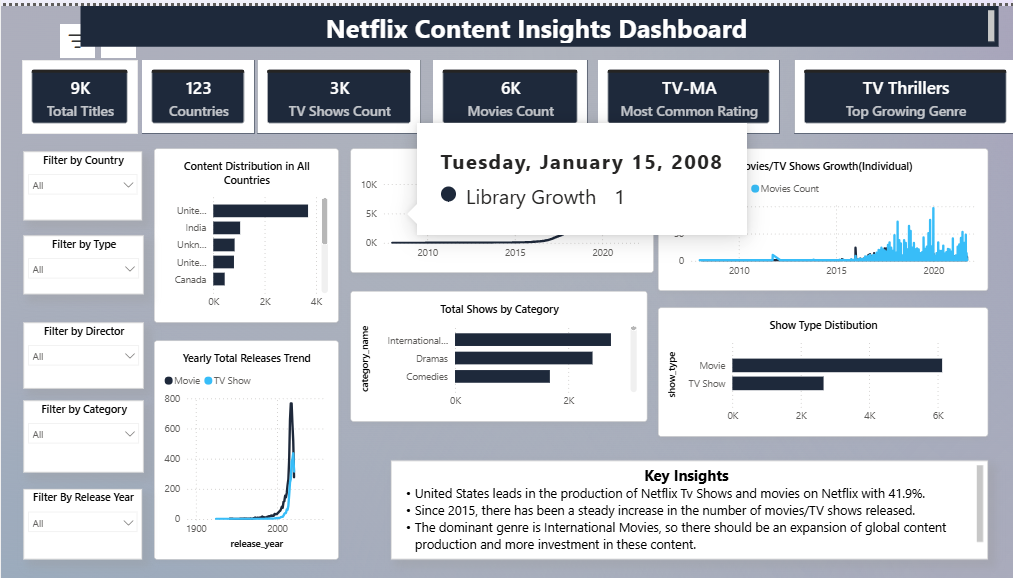

The dashboard page shown, as its layout file describes it:
{"tool":"powerbi","page":{"name":"Index Page","canvas":[1280,720],"ordinal":0},"visuals":[{"type":"cardVisual","fields":{"Data":["netflix_title movie_show_casts.Total Titles"]},"box":[26.5,68,145.5,92.6],"z":0},{"type":"cardVisual","fields":{"Data":["netflix_title movie_show_casts.Countries"]},"box":[177.6,68,141.7,92.6],"z":1000},{"type":"cardVisual","fields":{"Data":["netflix_title movie_show_casts.TV Shows Total"]},"box":[323.2,68,168.2,92.6],"z":2000},{"type":"cardVisual","fields":{"Data":["netflix_title movie_show_casts.Movies Count"]},"box":[504.6,68,194.6,92.6],"z":3000},{"type":"cardVisual","fields":{"Data":["netflix_title movie_show_casts.Average Movie Duration"]},"box":[956.2,68,323.2,92.6],"z":4000},{"type":"cardVisual","fields":{"Data":["netflix_title movie_show_casts.Most Common Ratingg"]},"box":[712.4,68,228.7,92.6],"z":5000},{"type":"barChart","title":"Top 10 Countries Producing Shows","fields":{"Y":["CountNonNull(netflix_title movie_show_countries.show_id)"],"Category":["netflix_title movie_show_countries.country_name"]},"box":[192.8,179.5,232.4,219.2],"z":6000},{"type":"clusteredBarChart","title":"Total Shows by Category","fields":{"Category":["netflix_title movie_show_categories.category_name"],"Y":["CountNonNull(netflix_title movie_show_categories.show_id)"]},"box":[440.3,359.1,374.2,164.4],"z":7000},{"type":"lineChart","title":"Yearly Movies/TV Shows Growth ","fields":{"Y":["netflix_title movie_show_casts.Library Growth"],"Category":["Date Table.Date"]},"box":[440.3,179.5,381.7,156.9],"z":8000},{"type":"lineChart","title":"Movies/TV Shows Growth(Individual)","fields":{"Y":["netflix_title movie_show_casts.TV Shows Count","netflix_title movie_show_casts.Movies Count"],"Category":["Date Table.Date"]},"box":[827.7,179.5,415.8,179.5],"z":9000},{"type":"slicer","title":"Filter by Country","fields":{"Values":["netflix_title movie_show_countries.country_name"]},"box":[26.5,178.9,149.1,87.8],"z":10000},{"type":"slicer","title":"Filter by Type","fields":{"Values":["netflix_title netflix_titles_staging.show_type"]},"box":[26.5,284.9,150.7,74.5],"z":11000},{"type":"slicer","title":"Filter by Director","fields":{"Values":["netflix_title movie_show_directors.director_name"]},"box":[26.5,379.3,150.7,82.8],"z":12000},{"type":"slicer","title":"Filter by Category","fields":{"Values":["netflix_title movie_show_categories.category_name"]},"box":[26.5,495.3,150.7,91.1],"z":13000},{"type":"lineChart","title":"Yearly Total Releases Trend","fields":{"Y":["netflix_title movie_show_casts.Total Titles"],"Category":["netflix_title netflix_titles_staging.release_year"],"Series":["netflix_title netflix_titles_staging.show_type"]},"box":[192.8,421.4,232.4,275.9],"z":14000},{"type":"barChart","title":"Show Type Distribution by country_","fields":{"Category":["netflix_title movie_show_countries.country_name"],"Series":["netflix_title netflix_titles_staging.show_type"],"Y":["CountNonNull(netflix_title movie_show_countries.country_name)"]},"box":[827.7,379.8,415.8,162.5],"z":15000},{"type":"textbox","box":[491.3,572.6,752.1,124.7],"z":16000},{"type":"textbox","box":[100.2,0,1156.5,51],"z":17000}]}

Visuals, with their boxes in screenshot pixels (x1, y1, x2, y2), scaled from the page's 1280x720 canvas onto the 1013x578 screenshot:
cardVisual - netflix_title movie_show_casts.Total Titles: pyautogui.locateOnScreen(21, 55, 136, 129)
cardVisual - netflix_title movie_show_casts.Countries: pyautogui.locateOnScreen(141, 55, 253, 129)
cardVisual - netflix_title movie_show_casts.TV Shows Total: pyautogui.locateOnScreen(256, 55, 389, 129)
cardVisual - netflix_title movie_show_casts.Movies Count: pyautogui.locateOnScreen(399, 55, 553, 129)
cardVisual - netflix_title movie_show_casts.Average Movie Duration: pyautogui.locateOnScreen(757, 55, 1012, 129)
cardVisual - netflix_title movie_show_casts.Most Common Ratingg: pyautogui.locateOnScreen(564, 55, 745, 129)
"Top 10 Countries Producing Shows" barChart: pyautogui.locateOnScreen(153, 144, 337, 320)
"Total Shows by Category" clusteredBarChart: pyautogui.locateOnScreen(348, 288, 645, 420)
"Yearly Movies/TV Shows Growth " lineChart: pyautogui.locateOnScreen(348, 144, 651, 270)
"Movies/TV Shows Growth(Individual)" lineChart: pyautogui.locateOnScreen(655, 144, 984, 288)
"Filter by Country" slicer: pyautogui.locateOnScreen(21, 144, 139, 214)
"Filter by Type" slicer: pyautogui.locateOnScreen(21, 229, 140, 289)
"Filter by Director" slicer: pyautogui.locateOnScreen(21, 304, 140, 371)
"Filter by Category" slicer: pyautogui.locateOnScreen(21, 398, 140, 471)
"Yearly Total Releases Trend" lineChart: pyautogui.locateOnScreen(153, 338, 337, 560)
"Show Type Distribution by country_" barChart: pyautogui.locateOnScreen(655, 305, 984, 435)
textbox: pyautogui.locateOnScreen(389, 460, 984, 560)
textbox: pyautogui.locateOnScreen(79, 0, 995, 41)
